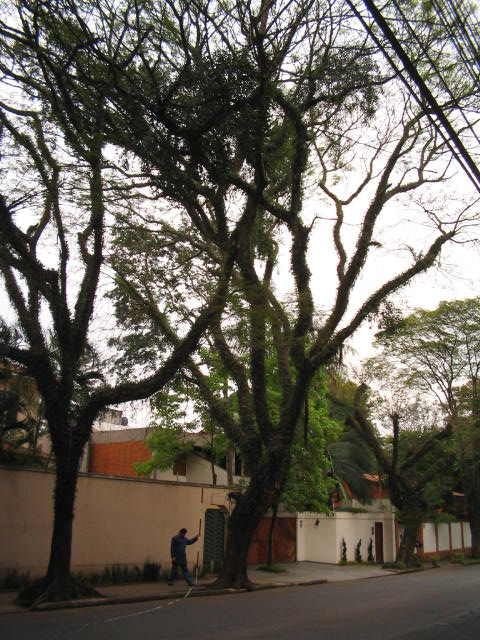stem: (211, 472, 287, 588), (26, 465, 90, 601)
stick: (189, 483, 206, 585)
tree: (116, 47, 480, 589), (2, 1, 294, 601)
